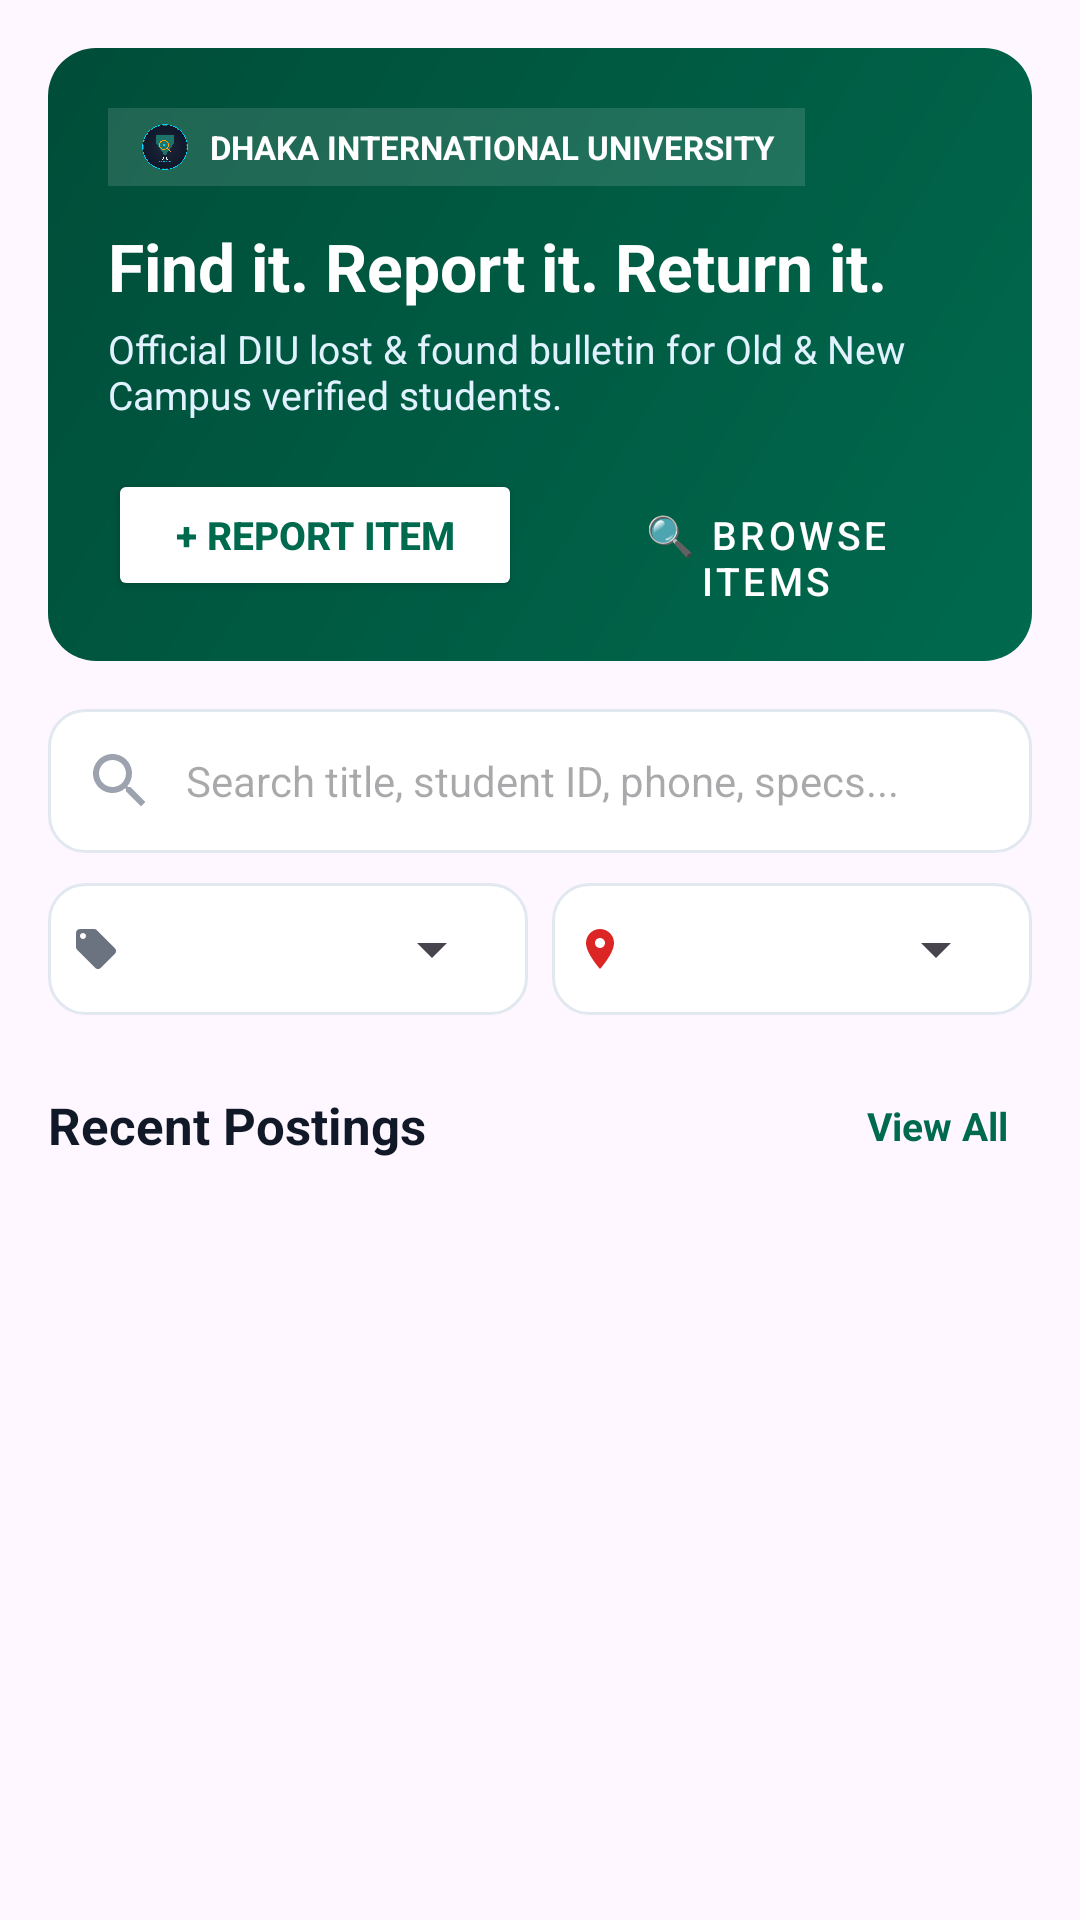

Locate icon controls on the screen. Image size 1080x1920, boxes as (x1, y1, x2, y2).
location: (586, 929, 614, 969)
tag: (76, 929, 116, 969)
